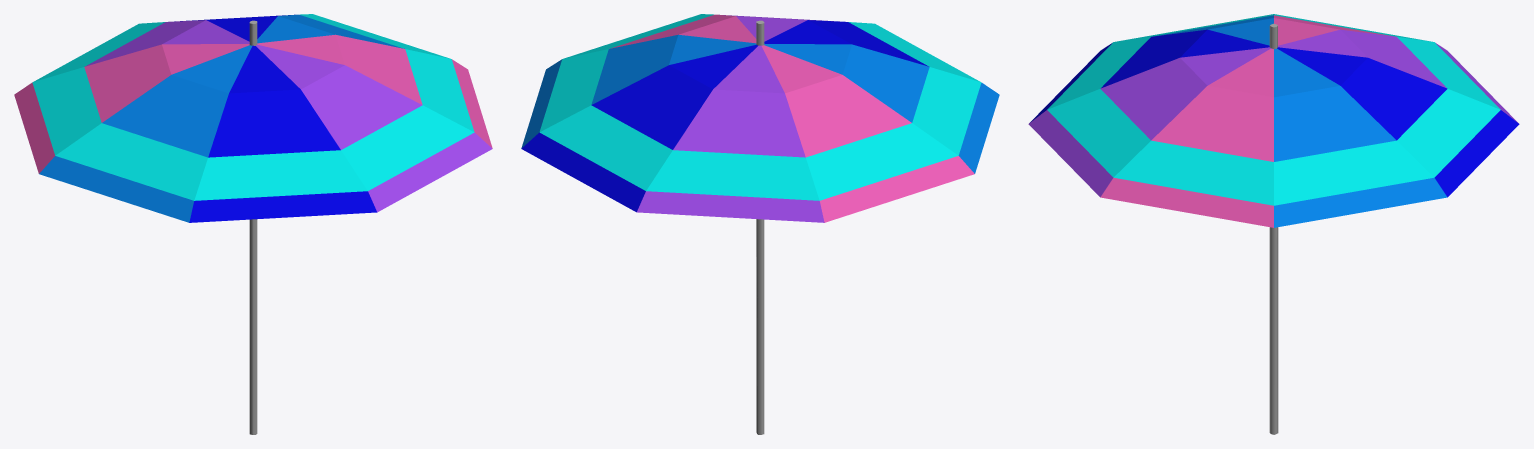
The model's file is umbrella1.fbx.
3 views of the same model, side by side, from view 1: azimuth 30°, elevation 25°; view 2: azimuth 150°, elevation 25°; view 3: azimuth 270°, elevation 25° (orthographic).
Visible parts, largest first — view 1: pSphere1, pCube1; view 2: pSphere1, pCube1; view 3: pSphere1, pCube1.
Part boxes in pixels (bbox=[...]): pSphere1: bbox=[14, 14, 492, 222]; pCube1: bbox=[249, 20, 257, 434]; pSphere1: bbox=[521, 14, 999, 222]; pCube1: bbox=[756, 20, 764, 434]; pSphere1: bbox=[1028, 14, 1519, 227]; pCube1: bbox=[1269, 23, 1278, 434].
Size of the model in its own units: 9.99 by 9.14 by 9.99.
